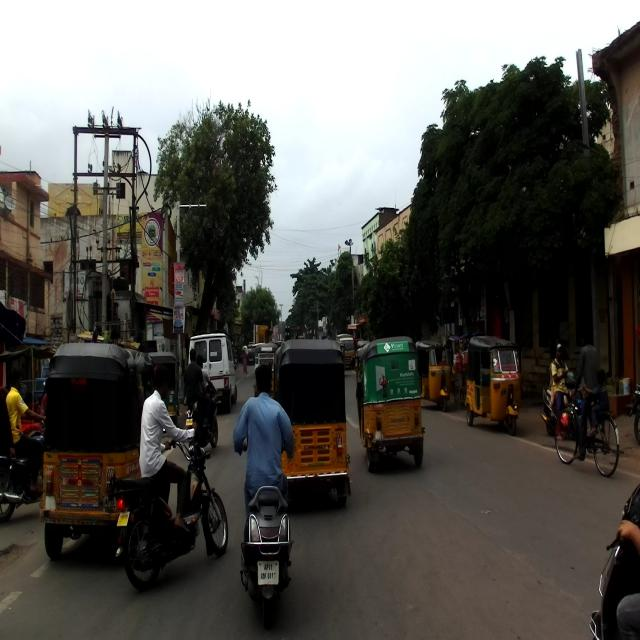autorickshaw: (41, 339, 157, 564), (271, 338, 351, 509), (353, 336, 426, 474), (464, 334, 522, 437)
motorcycle: (109, 399, 229, 591), (185, 383, 219, 460)
scooter: (234, 438, 297, 632), (540, 370, 582, 440)
